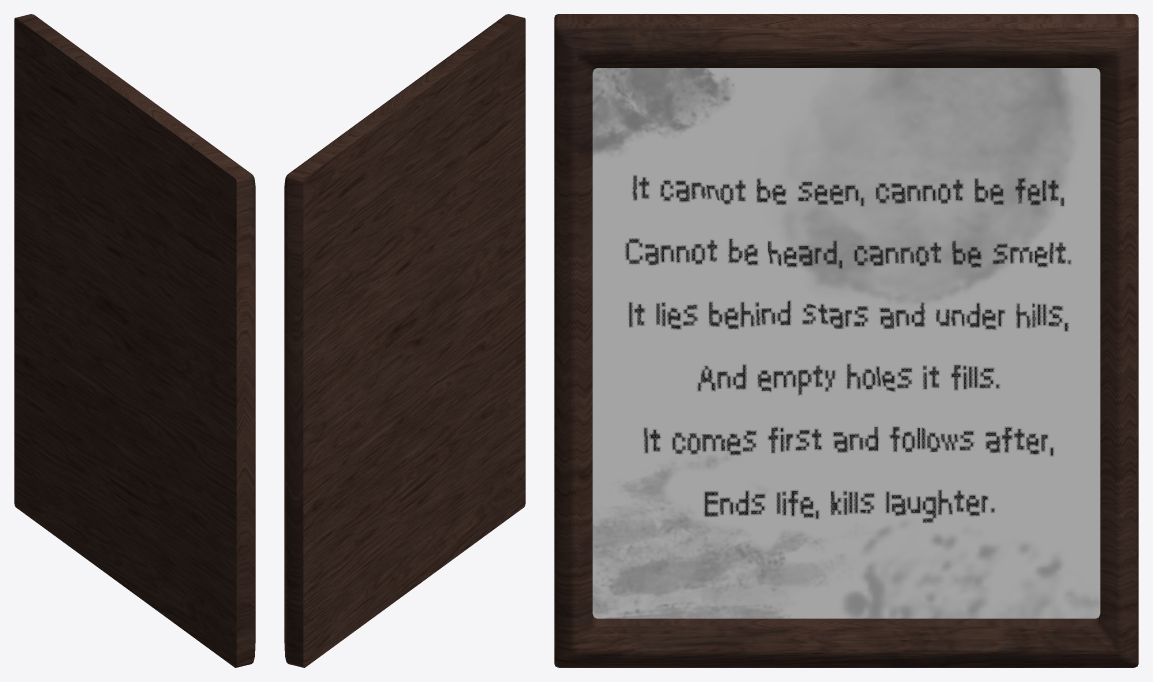
Rendered from BedroomRiddle.fbx.
3 renders of one model, left to right at view 1: azimuth 30°, elevation 25°; view 2: azimuth 150°, elevation 25°; view 3: azimuth 270°, elevation 25°, orthographic. The views are drawn at different scales.
Visible parts, largest first — view 1: BedroomRidlle; view 2: BedroomRidlle; view 3: BedroomRidlle.
Boxes of the visible parts, bbox=[...] form: BedroomRidlle: bbox=[14, 14, 255, 667]; BedroomRidlle: bbox=[284, 14, 525, 667]; BedroomRidlle: bbox=[554, 14, 1138, 667].
Bounding box in the file's own units: 3.76 × 68.59 × 56.46.
